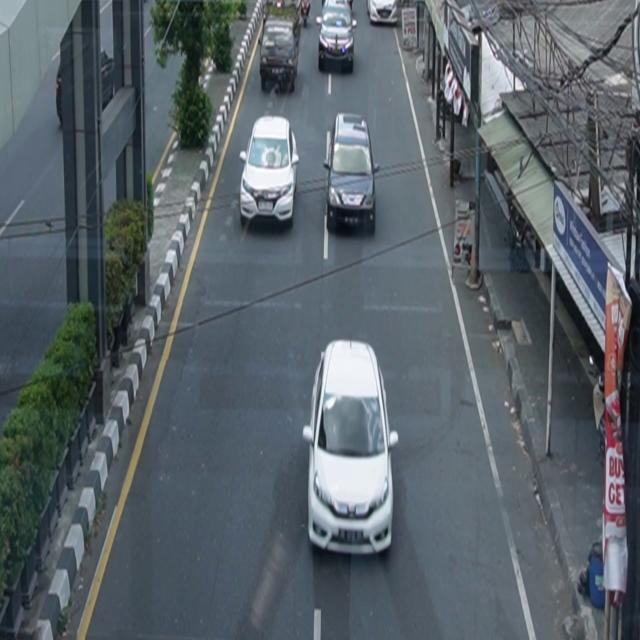car: (303, 339, 400, 557), (325, 112, 381, 235), (240, 115, 300, 228), (56, 47, 116, 128), (367, 1, 398, 26)
